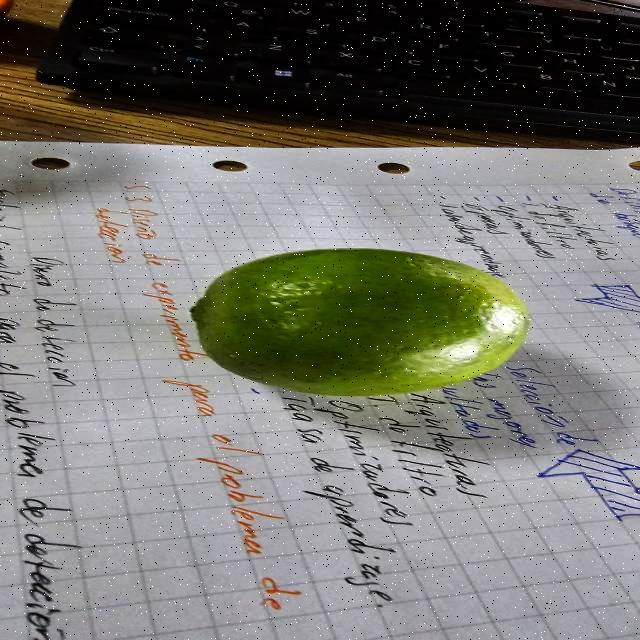Lemon: (180, 243, 538, 400)
